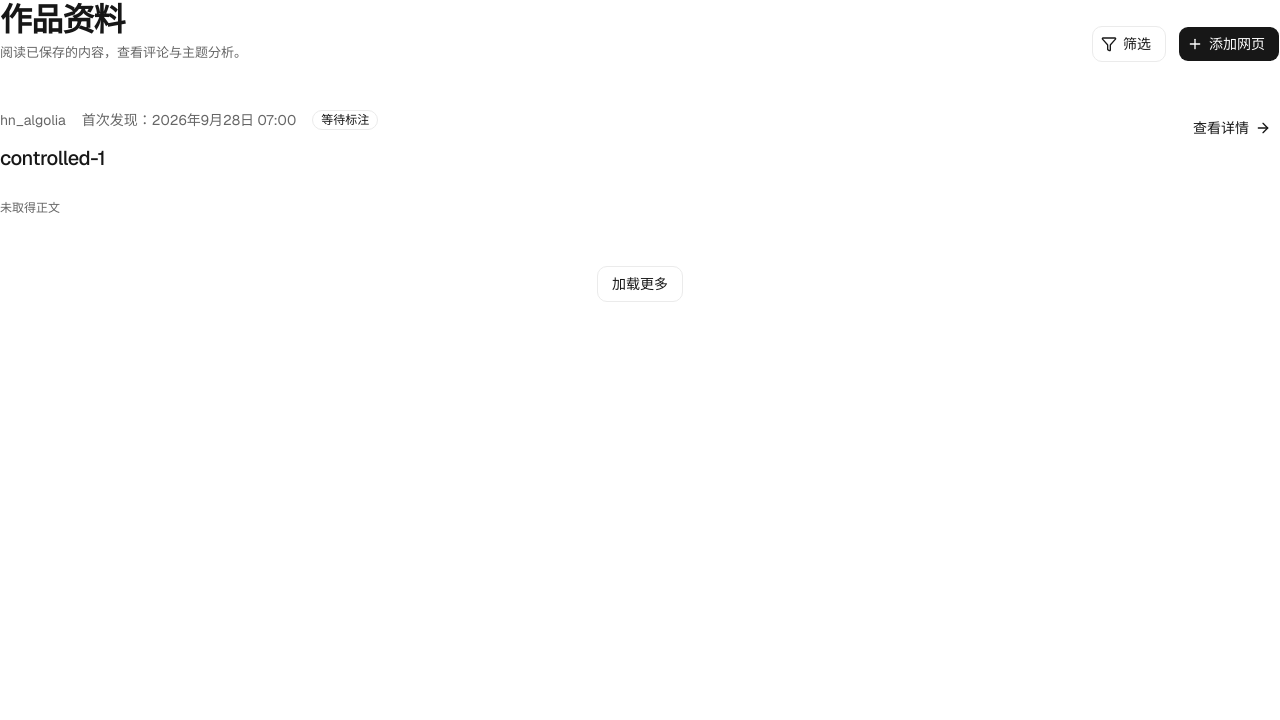
it: content list request recovery › cancels an in-flight append when filters change and ignores its late response
Check: the link "controlled-1" is shown, box [0,145,105,171]
Click the button "加载更多": (640, 284) [597,266,683,302]
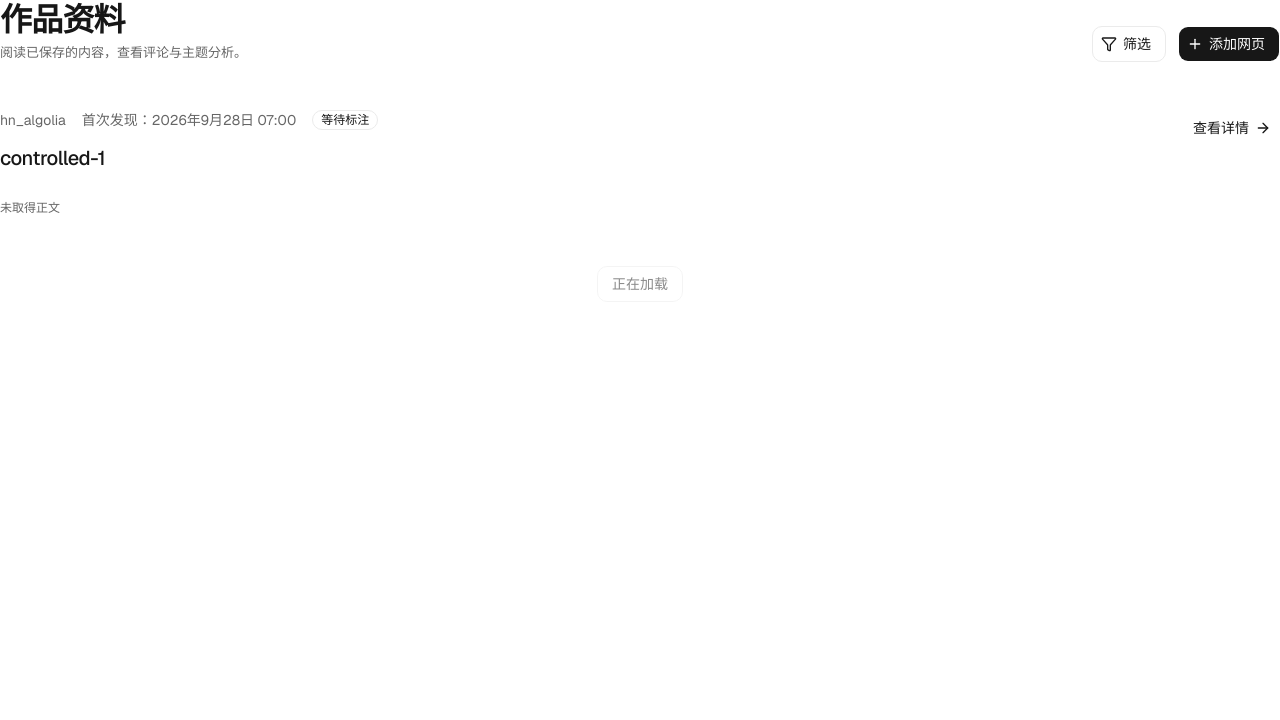
Click the button "筛选": (1129, 44) [1092,26,1166,62]
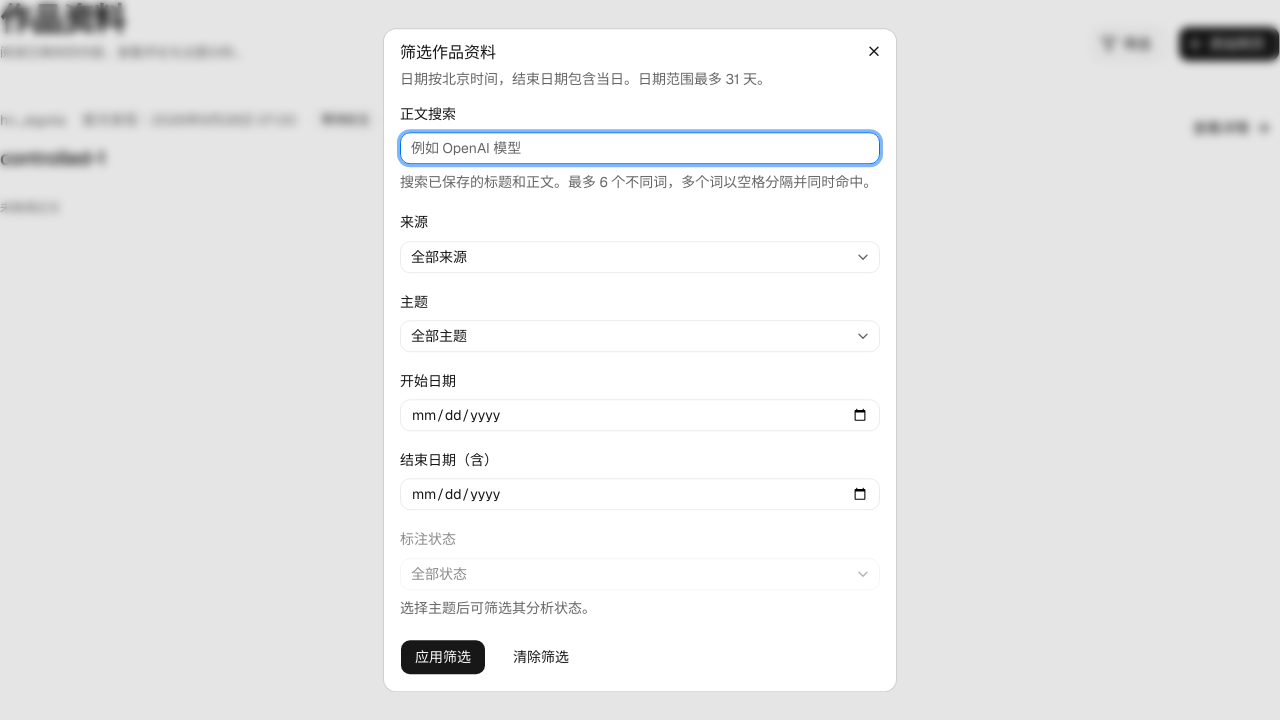
In the date field labelled "开始日期": (640, 415) [400,399,880,431], type "2026-09-27"
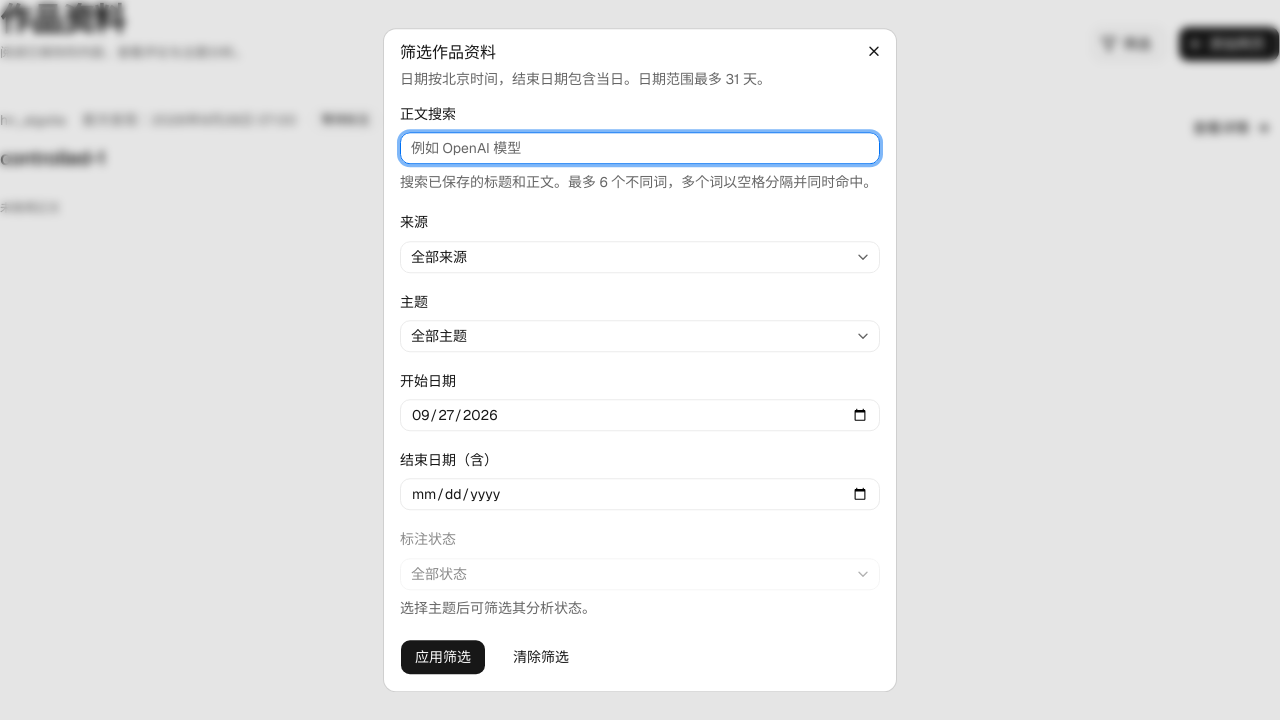
In the date field labelled "结束日期（含）": (640, 494) [400,478,880,510], type "2026-09-28"
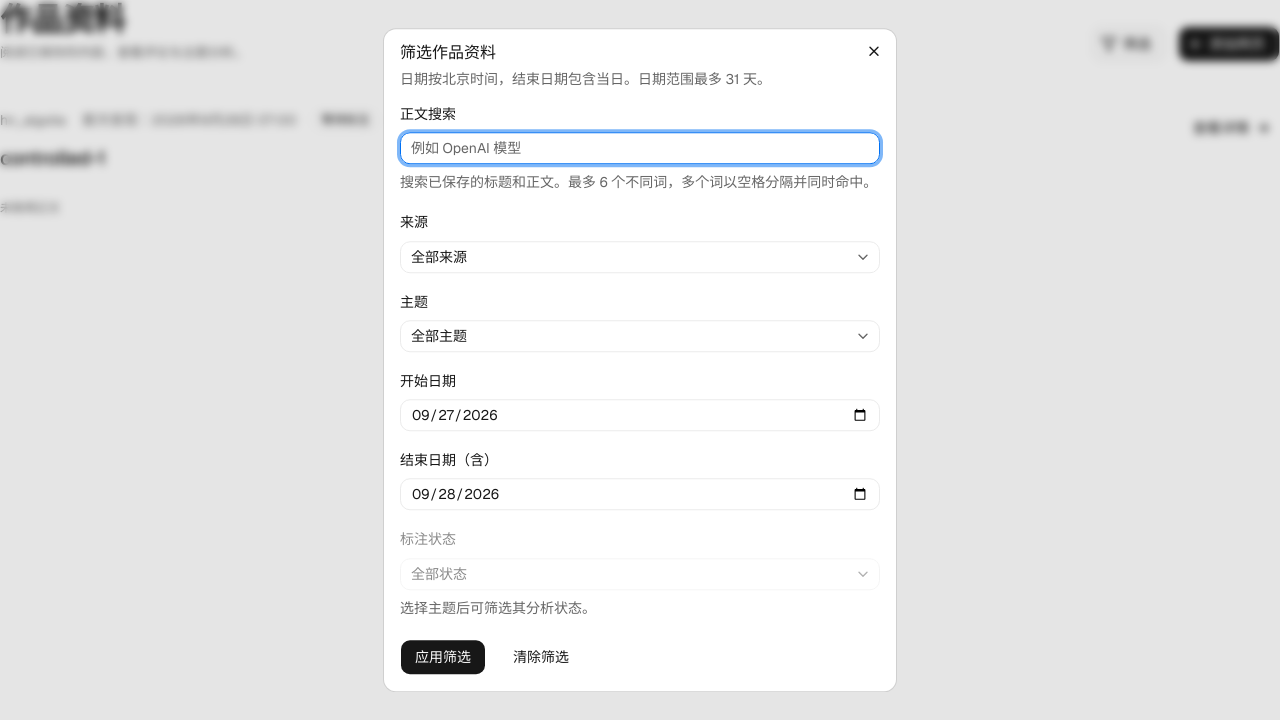
Click the button "应用筛选": (443, 657) [400,639,486,675]
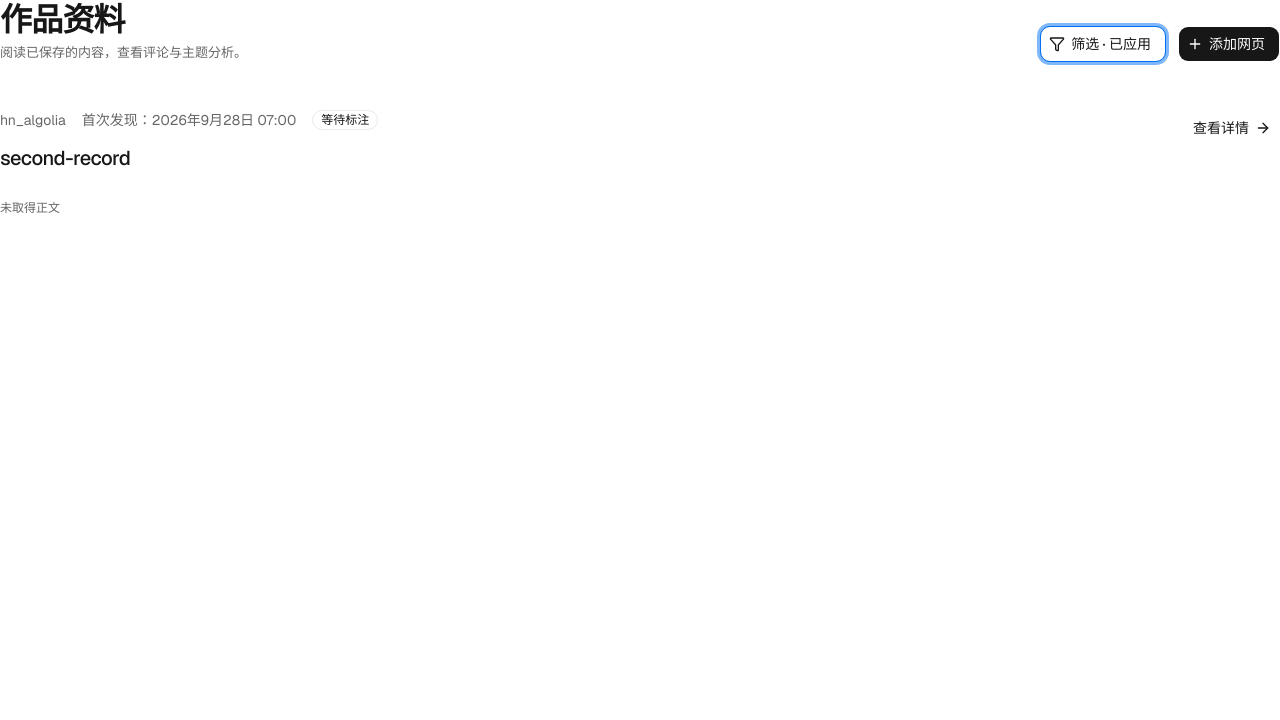
Check: the link "second-record" is shown, box [0,145,130,171]
